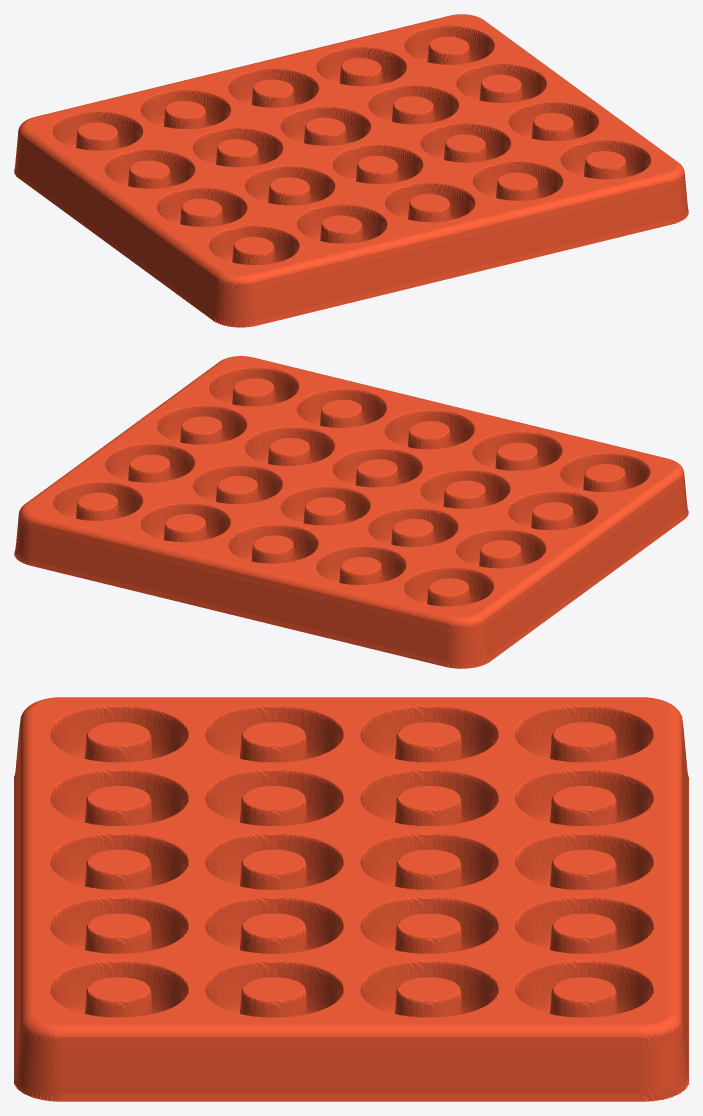
File: mold.glb
The picture shows the model from 3 angles, top to bottom: view 1: azimuth 30°, elevation 25°; view 2: azimuth 150°, elevation 25°; view 3: azimuth 270°, elevation 25°; orthographic projection. The views are drawn at different scales.
Visible parts, largest first — view 1: geometry_0; view 2: geometry_0; view 3: geometry_0.
Part boxes in pixels (x1=…): geometry_0: x1=14, y1=14, x2=688, y2=327; geometry_0: x1=14, y1=356, x2=688, y2=668; geometry_0: x1=14, y1=697, x2=688, y2=1101.
Bounding box in the file's own units: 0.1532 × 0.0145 × 0.1278.
